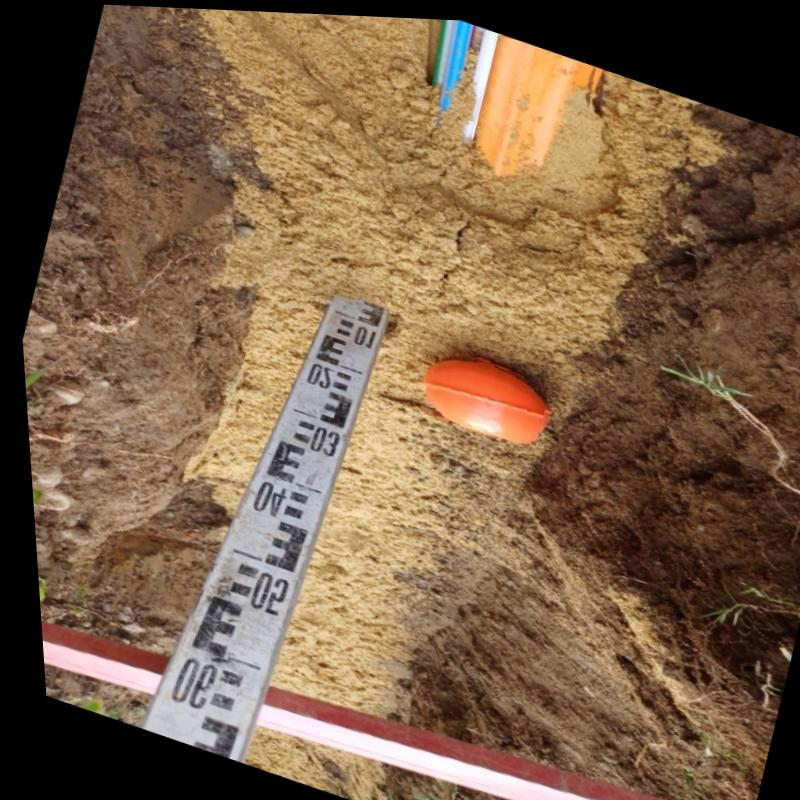Kugelmarker: (416, 349, 541, 434)
Orang-Speednetrohrchen: (467, 30, 598, 179)
